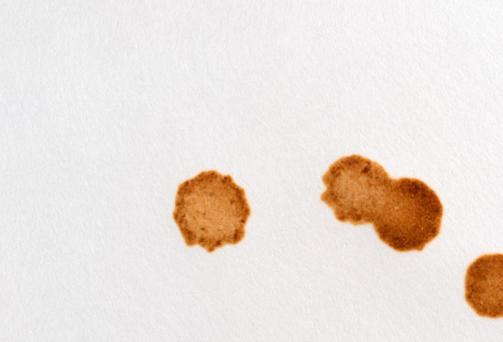stain: (315, 152, 447, 257), (171, 167, 257, 254), (462, 249, 503, 324)
